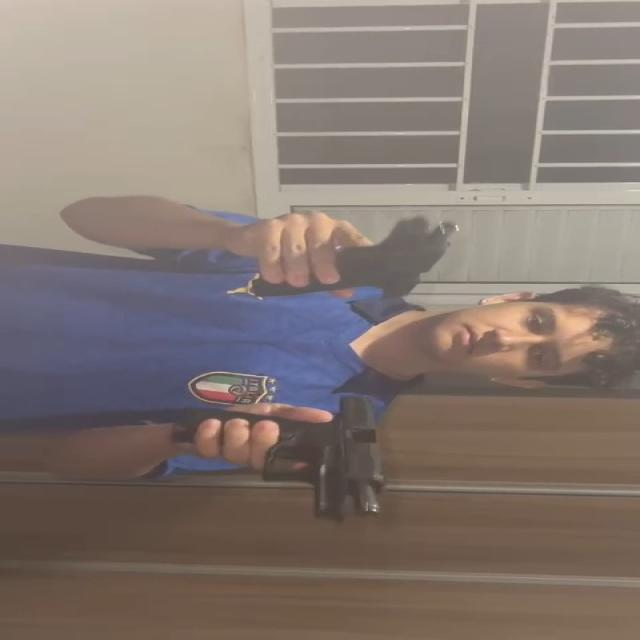gun: (173, 395, 390, 522), (253, 214, 460, 296)
